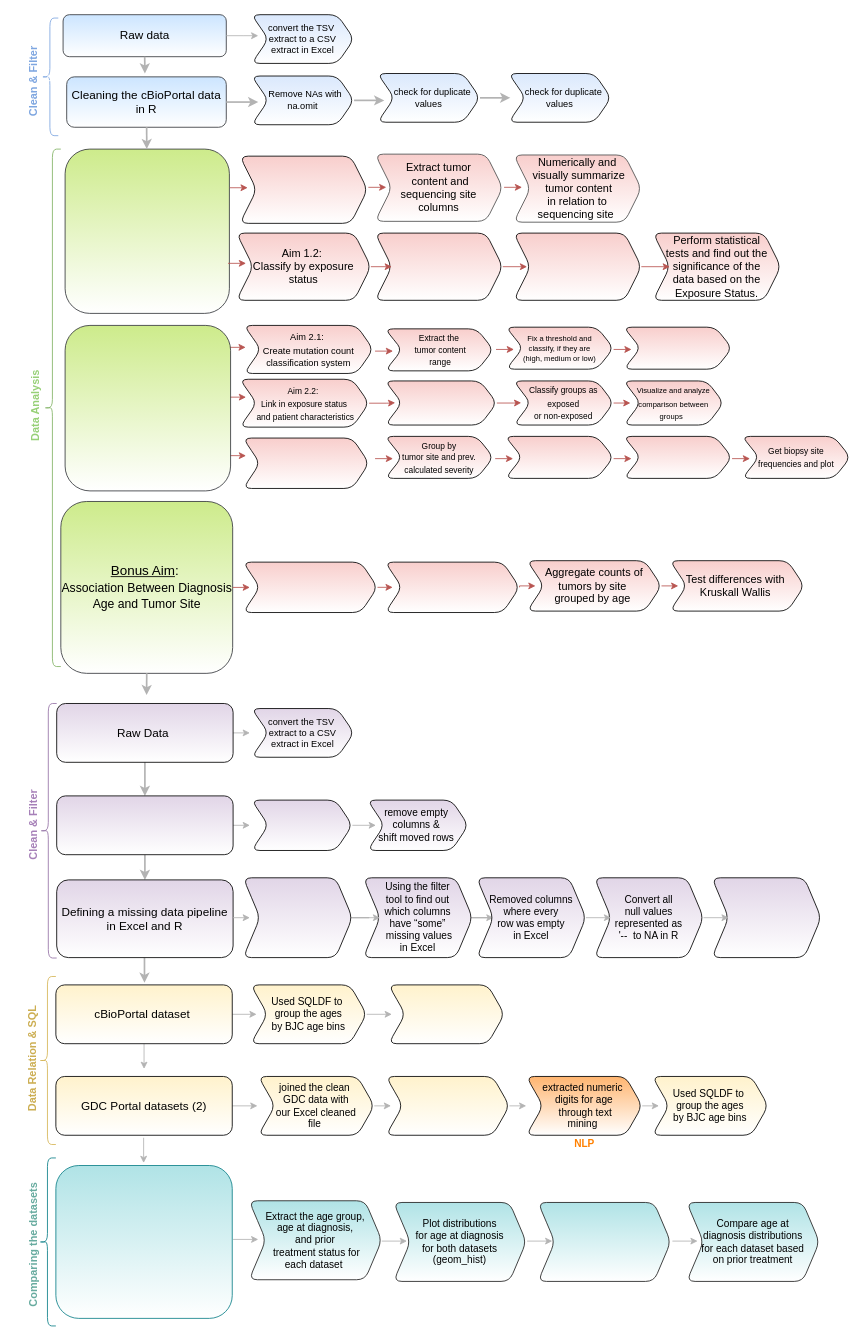
The diagram is 865 pixels wide and 1341 high, and some of its shapes have lost their labels. The shapes that lost their labels are listed below. From the top down, each one's box as (x1, y1, x2, y2) in pixels, then its label:
(239, 155, 368, 223): Aim 1.1: Classify severity of cancer by site
(64, 148, 229, 313): Aim 1 : Center of Sequencing Analysis
(374, 232, 503, 300): Extract Exposure Status column and group it by prior treatment column
(513, 232, 641, 300): Generate the frequency table, perform visualization on the data
(623, 326, 732, 369): Add classification to the dataset
(64, 325, 231, 491): Aim 2 : Mutation Count Classification System
(384, 380, 497, 425): Extract fraction genome altered, mutation count and tumor content
(242, 437, 369, 488): Aim 2.3: Exposure status & fraction of altered genome relation to biopsy sites
(504, 436, 614, 478): Get counts of severity by tumor site
(623, 436, 732, 478): Set organ values and plot
(242, 561, 377, 613): Aim: Age-stratified analysis of tumor site
(384, 561, 520, 613): Discern distribution of diagnosis age & unique tumor sites
(56, 795, 233, 855): Cleaning the NCI GDC data in Excel
(251, 799, 352, 850): Determine empty columns & missing values
(242, 877, 352, 958): Import the raw data in Excel
(711, 877, 821, 958): Removed cells that contained NA in R.
(388, 984, 504, 1044): Appended the age group to the data through join on Patient ID
(385, 1076, 509, 1135): removed duplicate columns in the data
(55, 1165, 232, 1318): GDC Portal vs cBioPortal Datasets
(537, 1202, 671, 1281): Plot prior treatment status, grouped by age stratum, for both datasets
